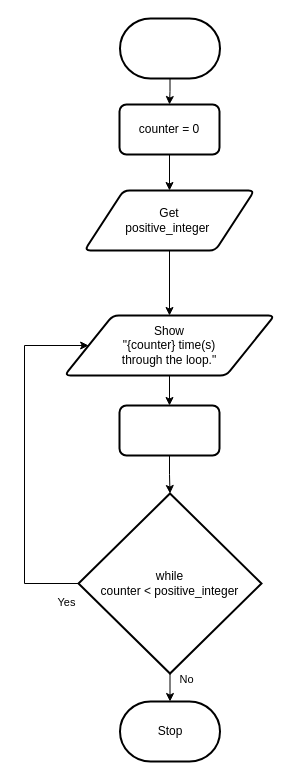
Image size: 293x779. Some labels were removed from this diagram. Here are the shapes that lost their labels. From the top down, the box of each, then its label:
(118, 17, 220, 79): Start
(118, 404, 220, 456): counter = counter + 1
